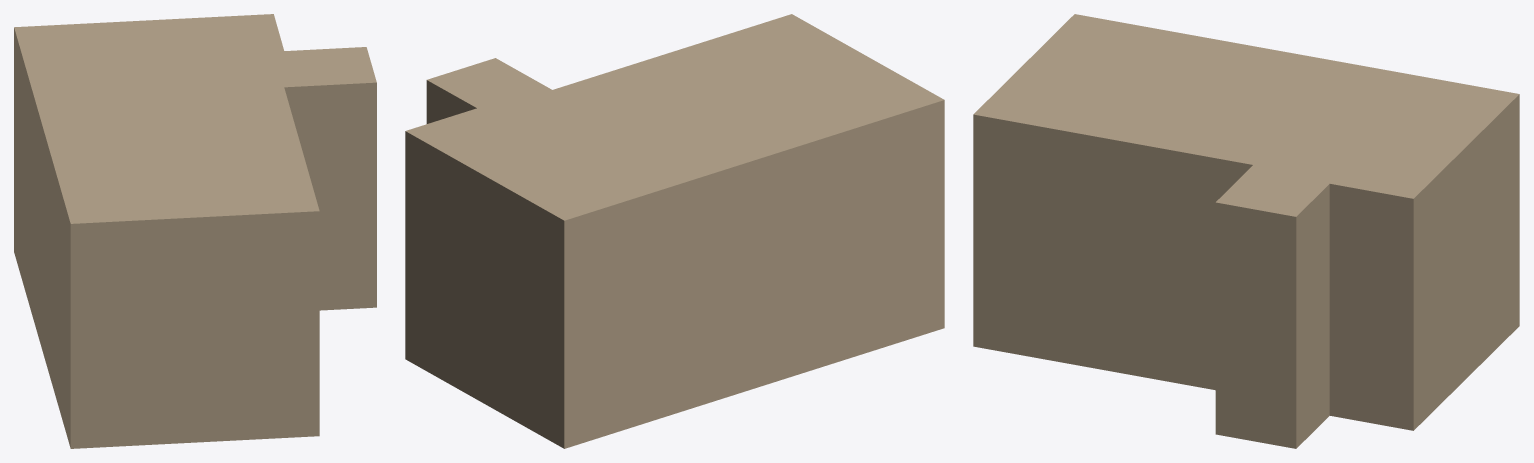
Rendered from bld_158045209.dae.
The picture shows the model from 3 angles, left to right: view 1: azimuth 30°, elevation 25°; view 2: azimuth 150°, elevation 25°; view 3: azimuth 270°, elevation 25°; orthographic projection. The views are drawn at different scales.
Visible parts, largest first — view 1: bld_158045209; view 2: bld_158045209; view 3: bld_158045209.
Part boxes in pixels (left/top/right/bottom): bld_158045209: left=14, top=14, right=376, bottom=448; bld_158045209: left=405, top=14, right=944, bottom=448; bld_158045209: left=973, top=14, right=1519, bottom=448.
Size of the model in its own units: 15.01 by 17.07 by 8.
